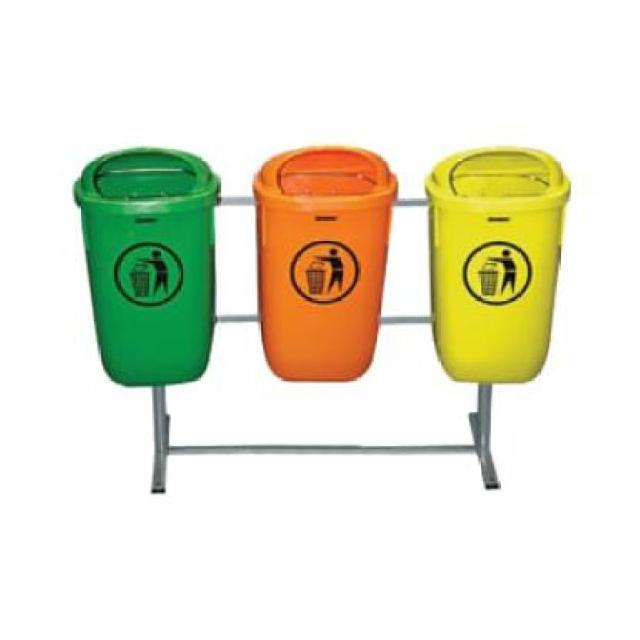garbage container: (409, 134, 583, 394), (247, 136, 413, 398), (68, 138, 228, 400)
